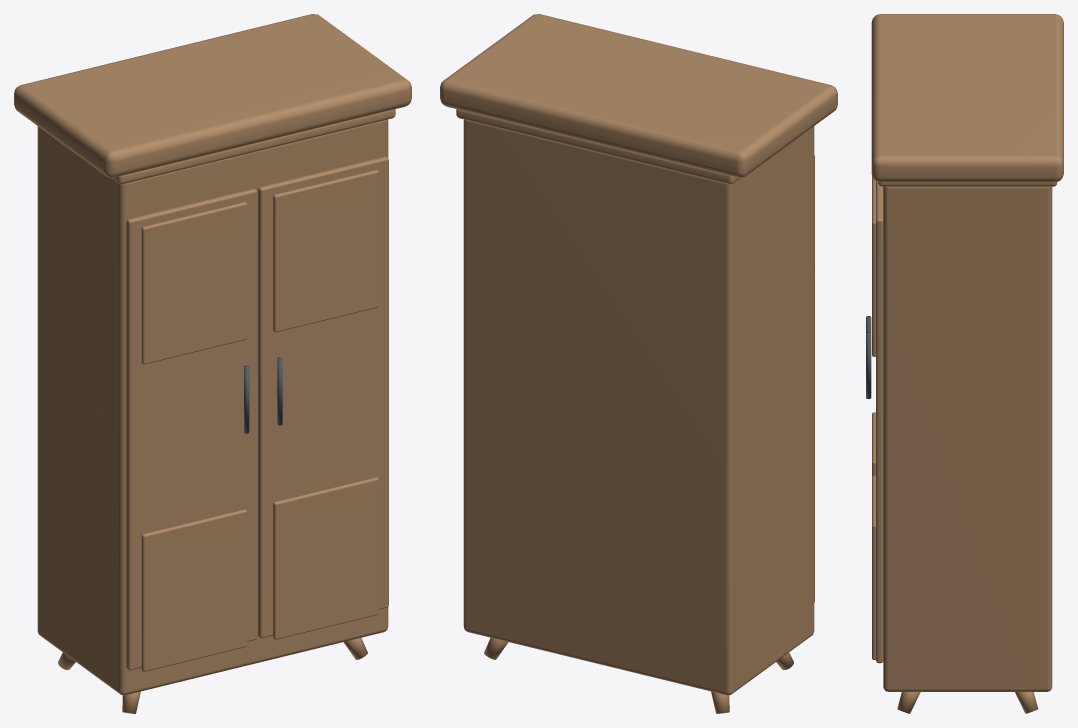
File: atelier-armoire.glb
The picture shows the model from 3 angles, left to right: view 1: azimuth 30°, elevation 25°; view 2: azimuth 150°, elevation 25°; view 3: azimuth 270°, elevation 25°; orthographic projection.
Visible parts, largest first — view 1: legs.044, metal.012; view 2: legs.044; view 3: legs.044, metal.012.
Boxes of the visible parts, x1,y1,x2,y2 form: legs.044: (14,14,411,713); metal.012: (244,357,282,433); legs.044: (440,14,837,713); legs.044: (871,14,1063,713); metal.012: (866,316,871,398).
Bounding box in the file's own units: 1.2 × 2.17 × 0.679.
